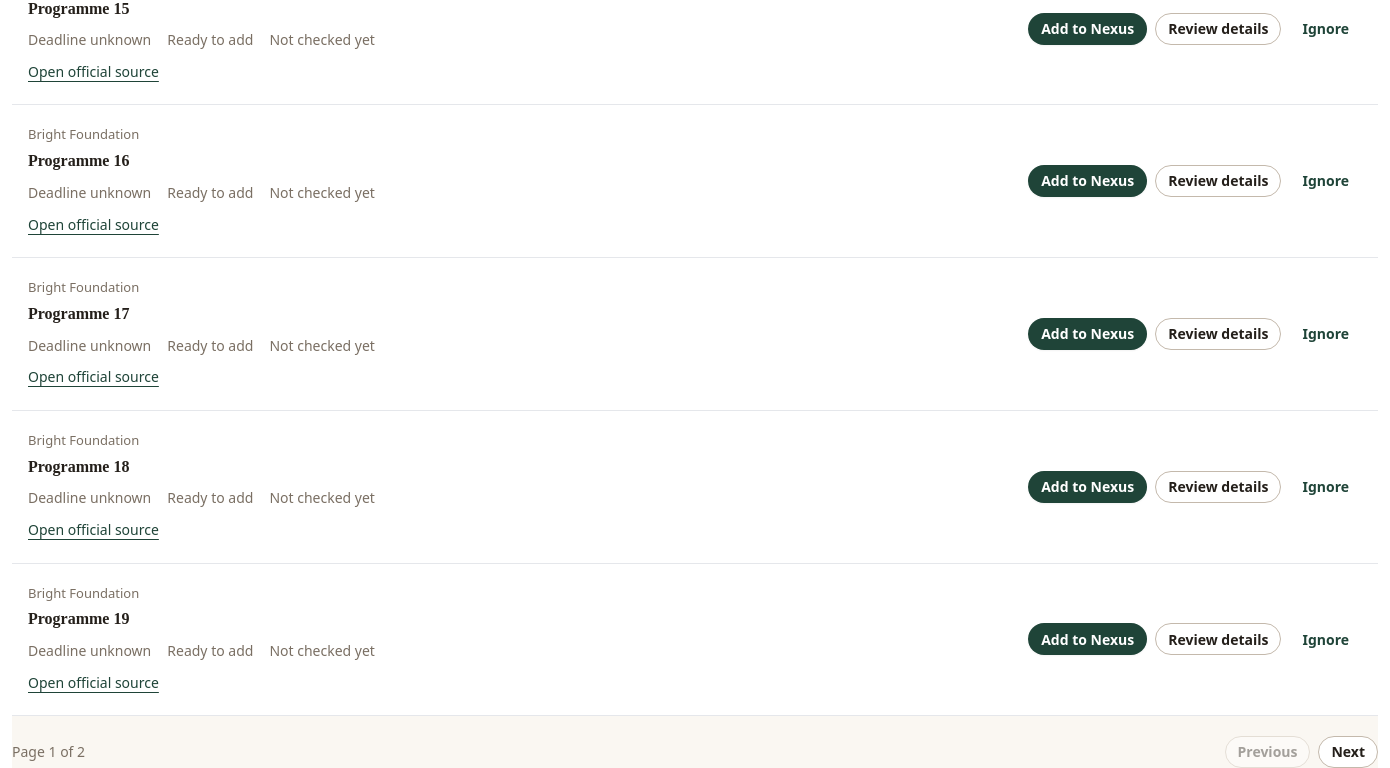
Test: shows real totals and 20+5 pagination
(page scrolled)
Click the button "Next".
click(1348, 752)  # box [1318,736,1378,767]
(page scrolled)
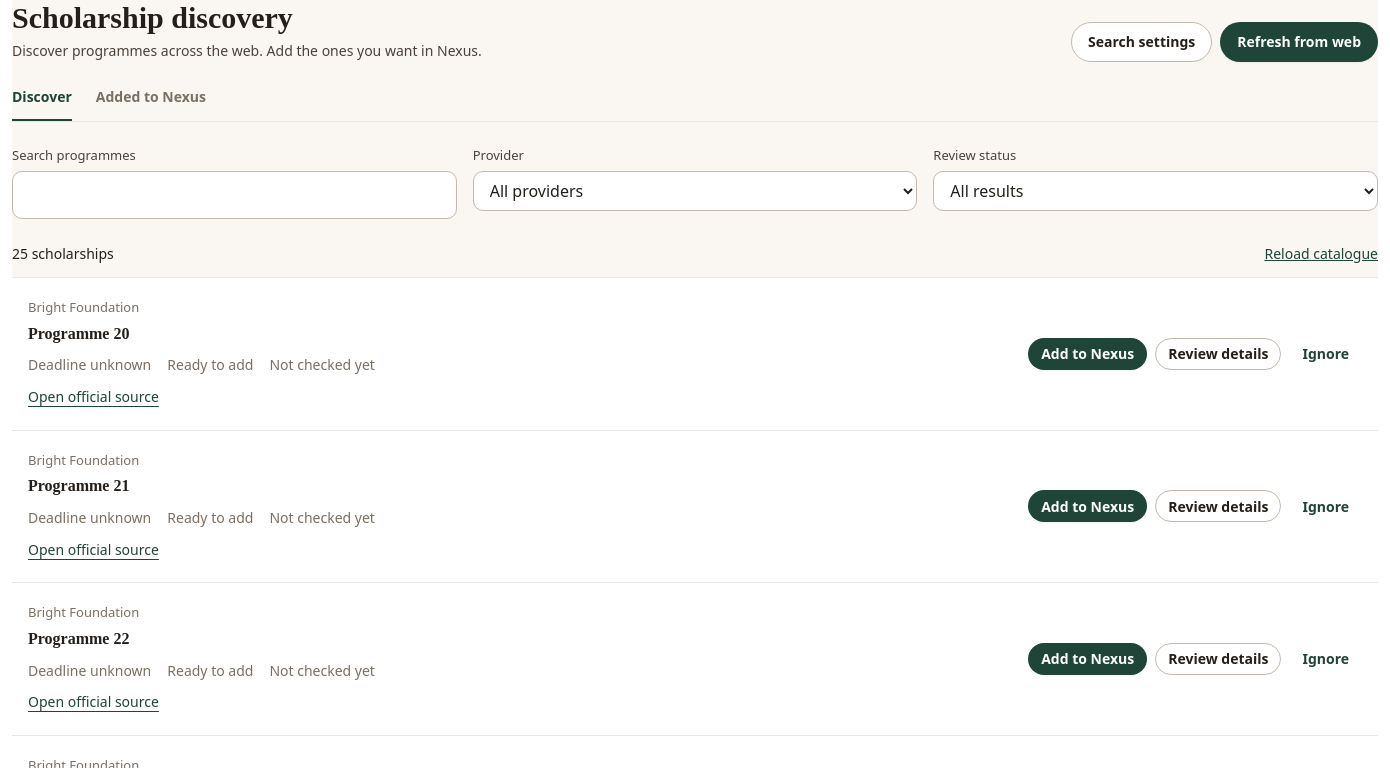
Expected: the number of buttons "Add to Nexus" is 5
